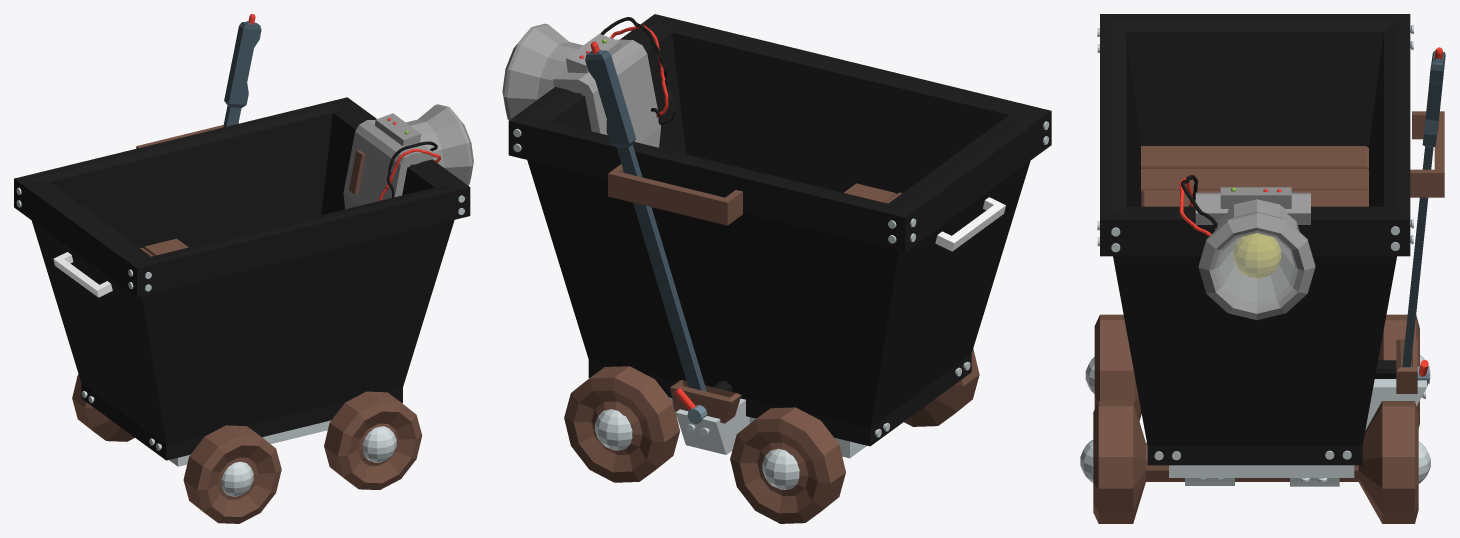
Rendered from Minecart.glb.
3 views of the same model, side by side, from view 1: azimuth 30°, elevation 25°; view 2: azimuth 150°, elevation 25°; view 3: azimuth 270°, elevation 25° (orthographic). The views are drawn at different scales.
Parts seen in each view (by area): view 1: group886312682, group1959756306, group672785919, group1534735487, group1740952096, group208685076, group139019841, group1903098872, group325307691; view 2: group886312682, group1959756306, group672785919, group208685076, group1534735487, group1740952096, group876192833, group1224683189, group601013571, group1903098872, group139019841; view 3: group886312682, group672785919, group1740952096, group1567372858, group1959756306, group1695922619, group1873147443, group208685076, group325307691, group876192833, group1293454316, group1870260659 (+4 smaller).
Boxes of the visible parts, x1,y1,x2,y2 form: group886312682: [14, 97, 470, 460]; group1959756306: [72, 374, 281, 523]; group672785919: [324, 391, 422, 489]; group1534735487: [343, 120, 434, 209]; group1740952096: [406, 104, 473, 185]; group208685076: [223, 21, 261, 127]; group139019841: [375, 113, 421, 146]; group1903098872: [53, 252, 112, 297]; group325307691: [169, 420, 330, 466]; group886312682: [508, 14, 1051, 446]; group1959756306: [730, 349, 979, 523]; group672785919: [564, 366, 679, 482]; group208685076: [585, 50, 706, 391]; group1534735487: [553, 39, 660, 147]; group1740952096: [502, 23, 582, 120]; group876192833: [608, 164, 742, 225]; group1224683189: [675, 398, 749, 454]; group601013571: [670, 380, 741, 423]; group1903098872: [935, 197, 1005, 251]; group139019841: [566, 34, 620, 72]; group886312682: [1100, 14, 1410, 465]; group672785919: [1080, 401, 1430, 523]; group1740952096: [1198, 199, 1315, 320]; group1567372858: [1141, 146, 1368, 169]; group1959756306: [1085, 314, 1430, 427]; group1695922619: [1214, 231, 1297, 307]; group1873147443: [1141, 169, 1368, 191]; group208685076: [1402, 51, 1445, 367]; group325307691: [1169, 465, 1354, 477]; group876192833: [1410, 111, 1444, 197]; group1293454316: [1141, 190, 1368, 206]; group1870260659: [1234, 233, 1280, 278].
Size of the model in its own units: 4.15 by 3.9 by 2.72.
